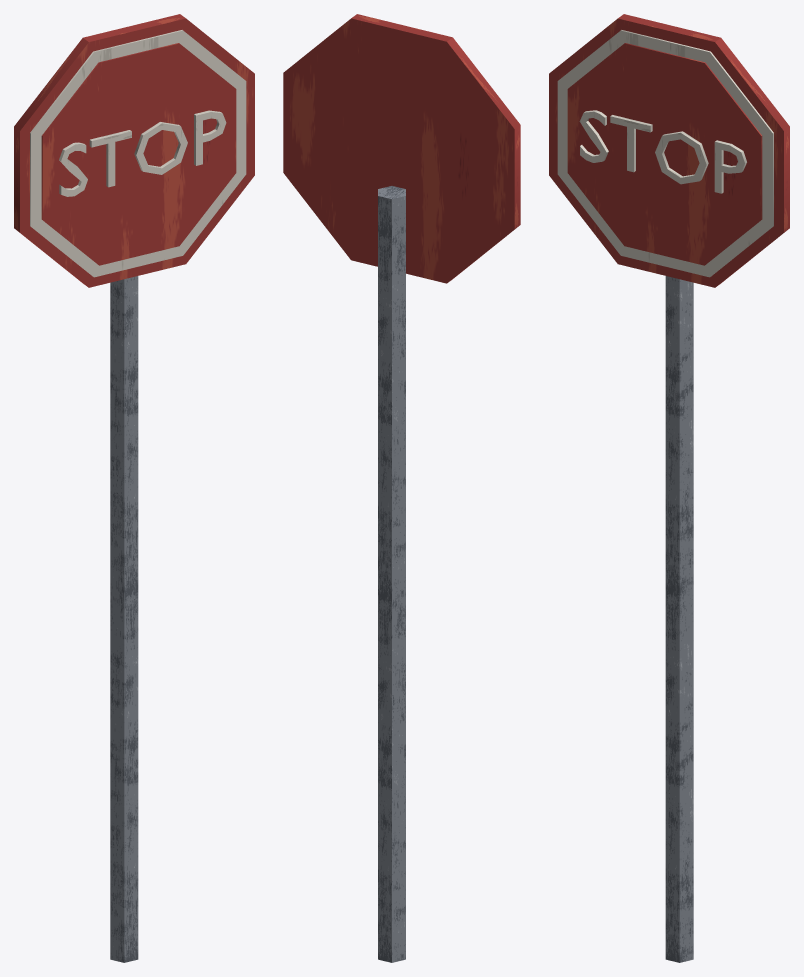
File: road_sign.glb
The picture shows the model from 3 angles, left to right: view 1: azimuth 30°, elevation 25°; view 2: azimuth 150°, elevation 25°; view 3: azimuth 330°, elevation 25°; orthographic projection.
Parts seen in each view (by area): view 1: Prop; view 2: Prop; view 3: Prop.
Boxes of the visible parts, x1,y1,x2,y2 form: Prop: (14, 14, 254, 962); Prop: (283, 14, 520, 962); Prop: (549, 14, 789, 962).
Size of the model in its own units: 0.6652 by 2.53 by 0.1246.
2 materials, 2 textured.
